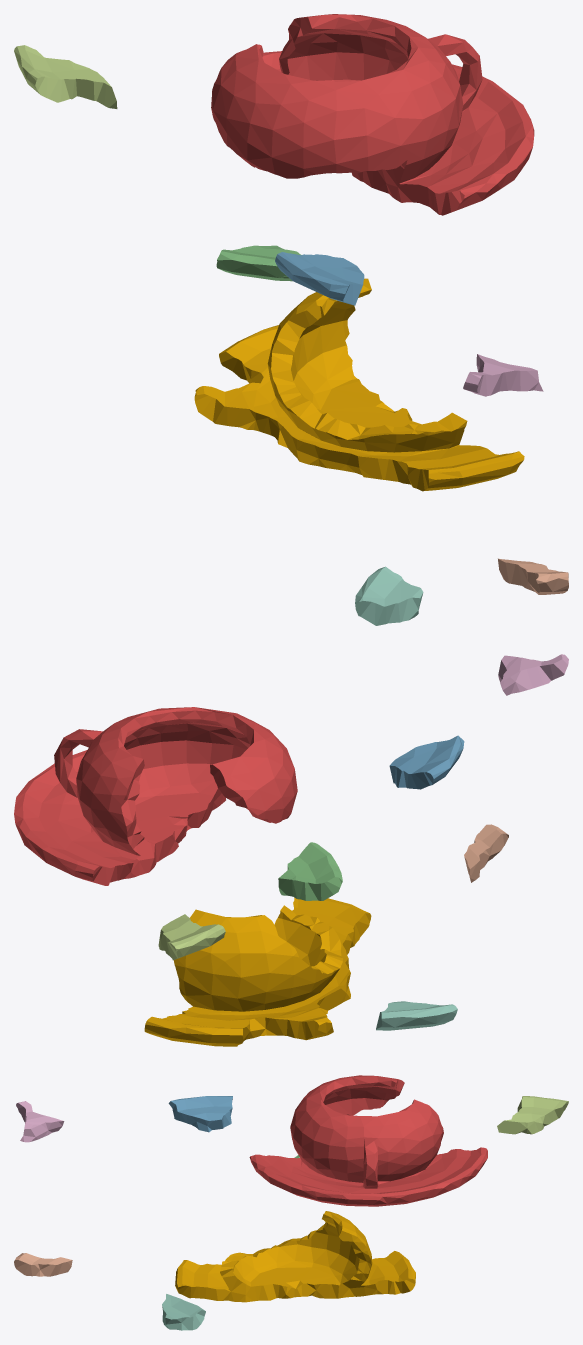
Rendered from fractured_3_8pcs_transformed.glb.
3 views of the same model, one above another, from view 1: azimuth 30°, elevation 25°; view 2: azimuth 150°, elevation 25°; view 3: azimuth 270°, elevation 25° (orthographic). The views are drawn at different scales.
Parts seen in each view (by area): view 1: piece_1.obj, piece_0.obj, piece_5.obj, piece_2.obj, piece_4.obj, piece_6.obj, piece_3.obj, piece_7.obj; view 2: piece_1.obj, piece_0.obj, piece_3.obj, piece_2.obj, piece_6.obj, piece_5.obj, piece_4.obj, piece_7.obj; view 3: piece_1.obj, piece_0.obj, piece_2.obj, piece_5.obj, piece_4.obj, piece_6.obj, piece_7.obj.
Boxes of the visible parts, x1,y1,x2,y2 form: piece_1.obj: [211, 14, 534, 215]; piece_0.obj: [194, 278, 524, 491]; piece_5.obj: [14, 45, 117, 108]; piece_2.obj: [275, 252, 364, 305]; piece_4.obj: [355, 566, 423, 625]; piece_6.obj: [463, 354, 543, 396]; piece_3.obj: [216, 245, 301, 281]; piece_7.obj: [498, 558, 568, 594]; piece_1.obj: [14, 707, 297, 885]; piece_0.obj: [144, 897, 371, 1046]; piece_3.obj: [278, 842, 342, 900]; piece_2.obj: [389, 735, 464, 789]; piece_6.obj: [498, 654, 568, 695]; piece_5.obj: [158, 914, 225, 960]; piece_4.obj: [376, 1001, 457, 1030]; piece_7.obj: [464, 824, 508, 882]; piece_1.obj: [249, 1075, 487, 1206]; piece_0.obj: [175, 1211, 415, 1302]; piece_2.obj: [168, 1096, 232, 1132]; piece_5.obj: [497, 1096, 568, 1134]; piece_4.obj: [162, 1294, 205, 1330]; piece_6.obj: [16, 1101, 64, 1142]; piece_7.obj: [14, 1253, 72, 1276].
Size of the model in its own units: 1 by 1.18 by 2.3.
